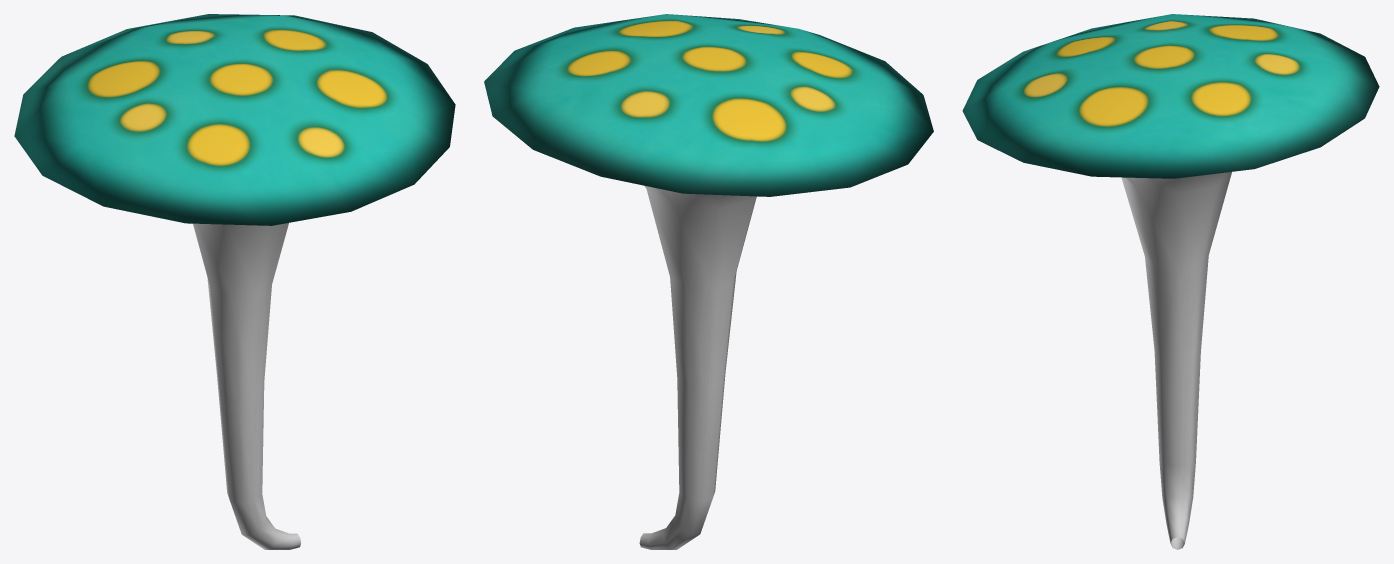
The model's file is Mushroom_Curved3_Blue.fbx.
The picture shows the model from 3 angles, left to right: view 1: azimuth 30°, elevation 25°; view 2: azimuth 150°, elevation 25°; view 3: azimuth 270°, elevation 25°; orthographic projection. The views are drawn at different scales.
Visible parts, largest first — view 1: Mesh; view 2: Mesh; view 3: Mesh.
Boxes of the visible parts, bbox=[...] form: Mesh: bbox=[14, 14, 455, 549]; Mesh: bbox=[484, 14, 933, 549]; Mesh: bbox=[962, 14, 1379, 549].
Size of the model in its own units: 231 by 281 by 228.
